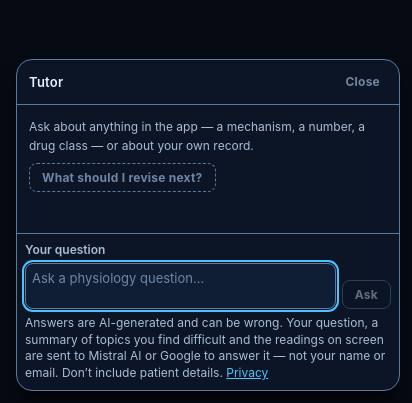
Test case: ChatPanel › tells a learner whose session has expired to sign in again
The width and height of the screenshot is (412, 403).
Type "anything" into the text box labelled "Your question" at (180, 286), box [25,263,336,309]
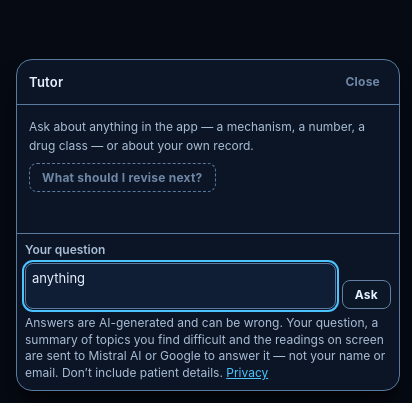
Click the button "Ask" at (366, 294), box [342,280,391,309]
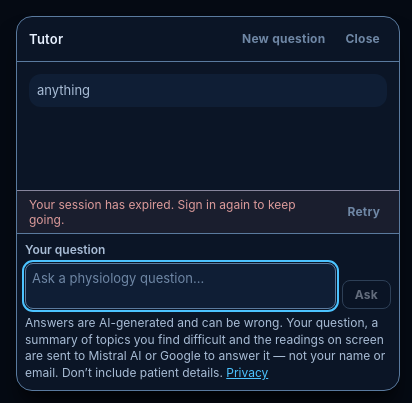
Check: the message shows "Sign in again", box [29,197,296,227]
